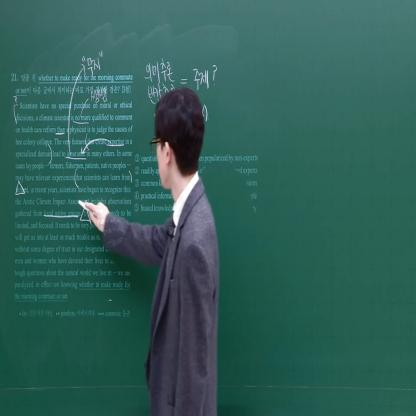streamer: (78, 86, 218, 416)
